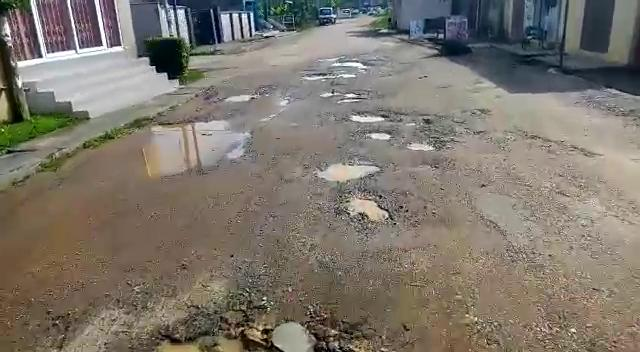pothole: (65, 123, 251, 181), (340, 190, 392, 229), (316, 158, 382, 182), (320, 90, 367, 103), (343, 111, 390, 122), (222, 92, 257, 103), (407, 139, 436, 152), (361, 130, 395, 141), (303, 71, 343, 80), (332, 59, 369, 68)
